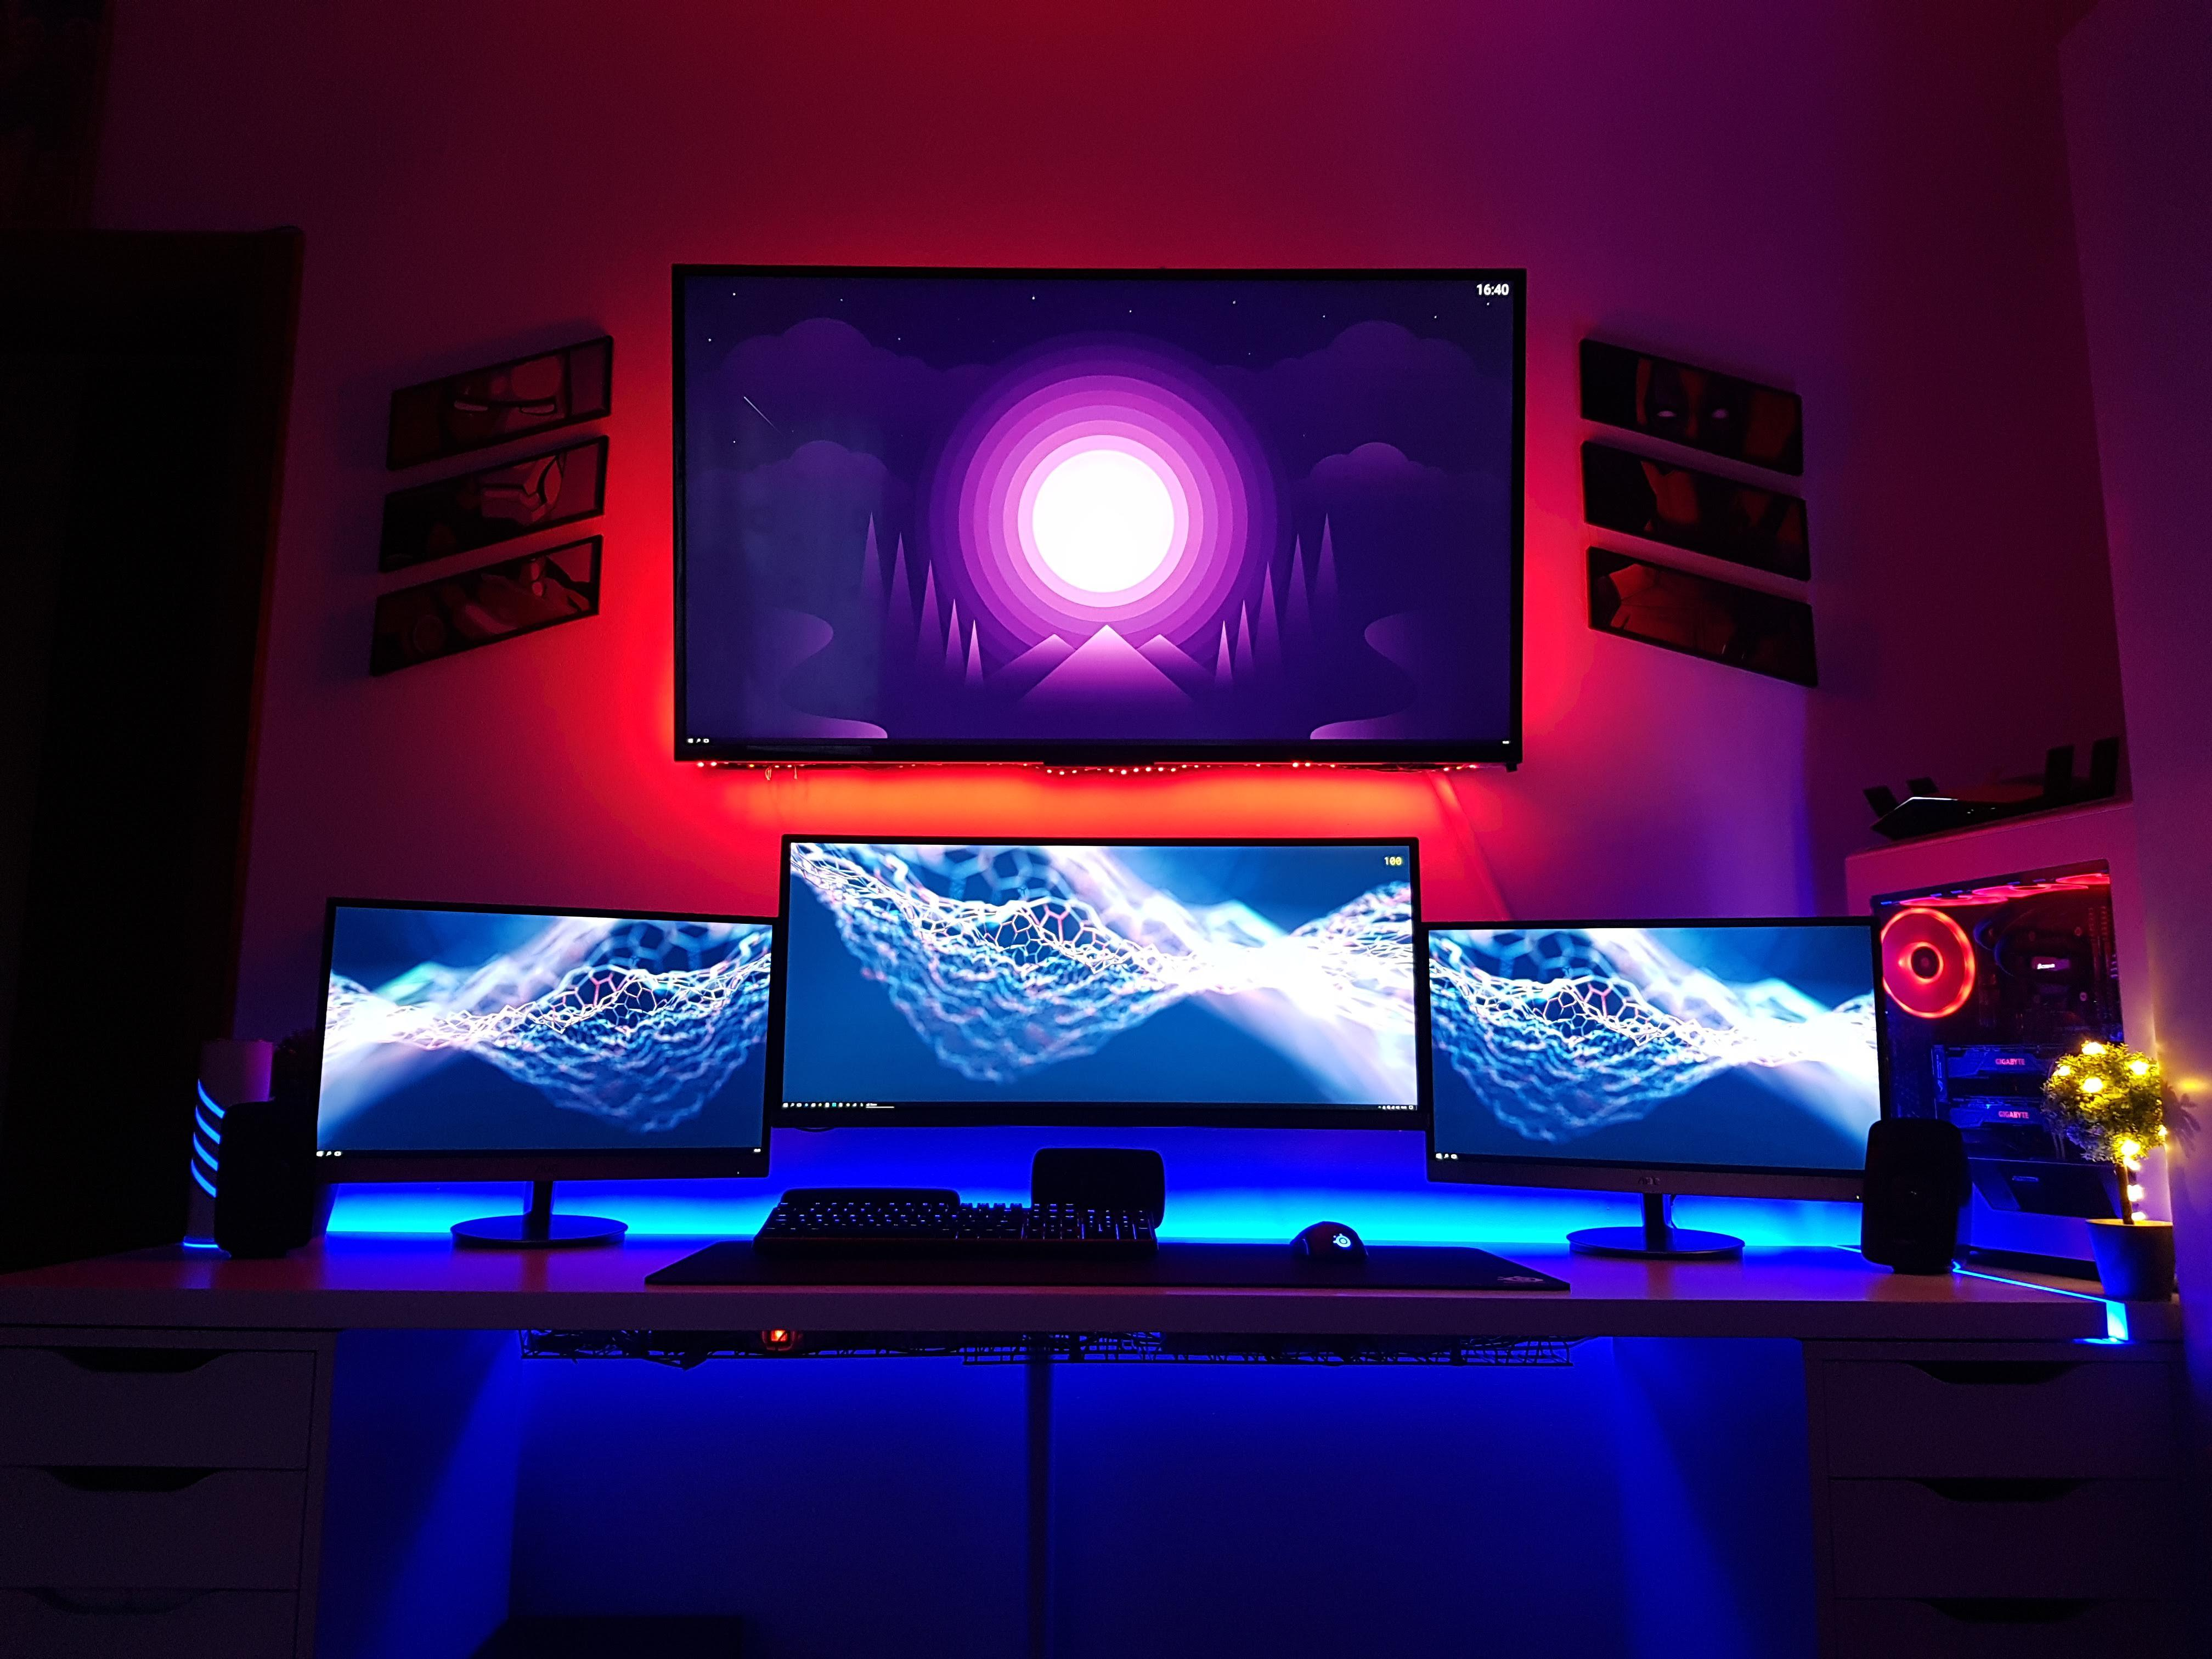Decoration (Picture): (1571, 293, 1878, 725), (343, 321, 622, 697)
Decoration (Plant): (2038, 1002, 2212, 1304)
Desk (Generic): (2, 1197, 2163, 1659)
Desktop (Windows): (1846, 800, 2163, 1286)
External Speakers (Generic): (1825, 1098, 1993, 1300), (185, 1105, 364, 1258), (989, 1138, 1202, 1234)
Keyboard (Gaming): (738, 1197, 1177, 1279)
Monitor (Landscape): (650, 254, 1550, 789), (758, 812, 1439, 1147), (310, 880, 780, 1209), (1411, 904, 1895, 1209)
Mouse (Gaming): (1282, 1201, 1392, 1293)
Mousepad (Gaming): (637, 1216, 1588, 1288)
Storage Drawer: (0, 1319, 512, 1654)
